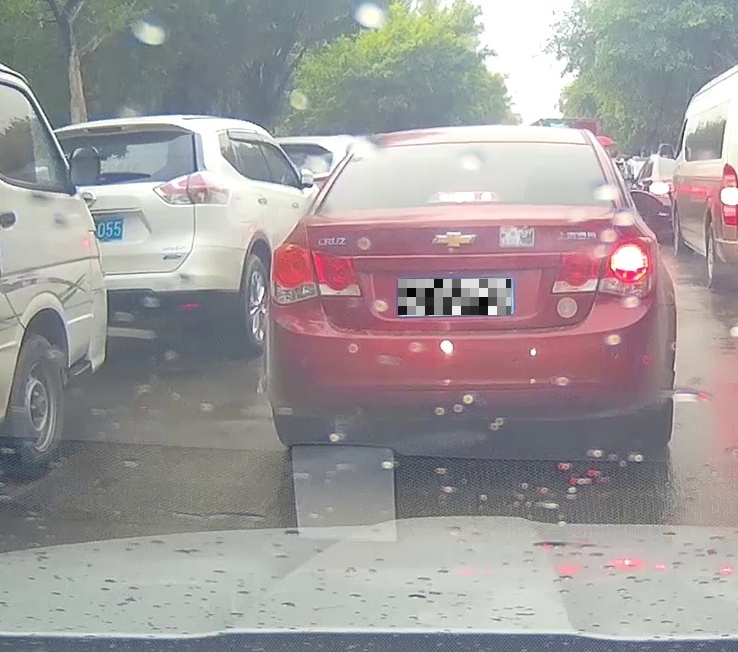L_light: (268, 241, 362, 305)
R_light: (548, 234, 655, 298)
T_light: (434, 191, 496, 201)
day-right: (264, 135, 664, 448)
plate_1: (398, 279, 511, 315)
